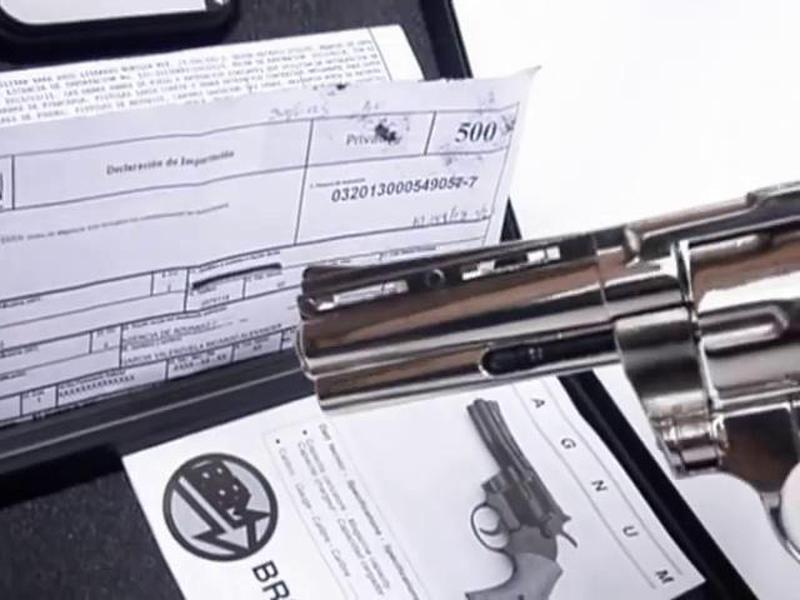Revolver: (237, 164, 800, 519)
